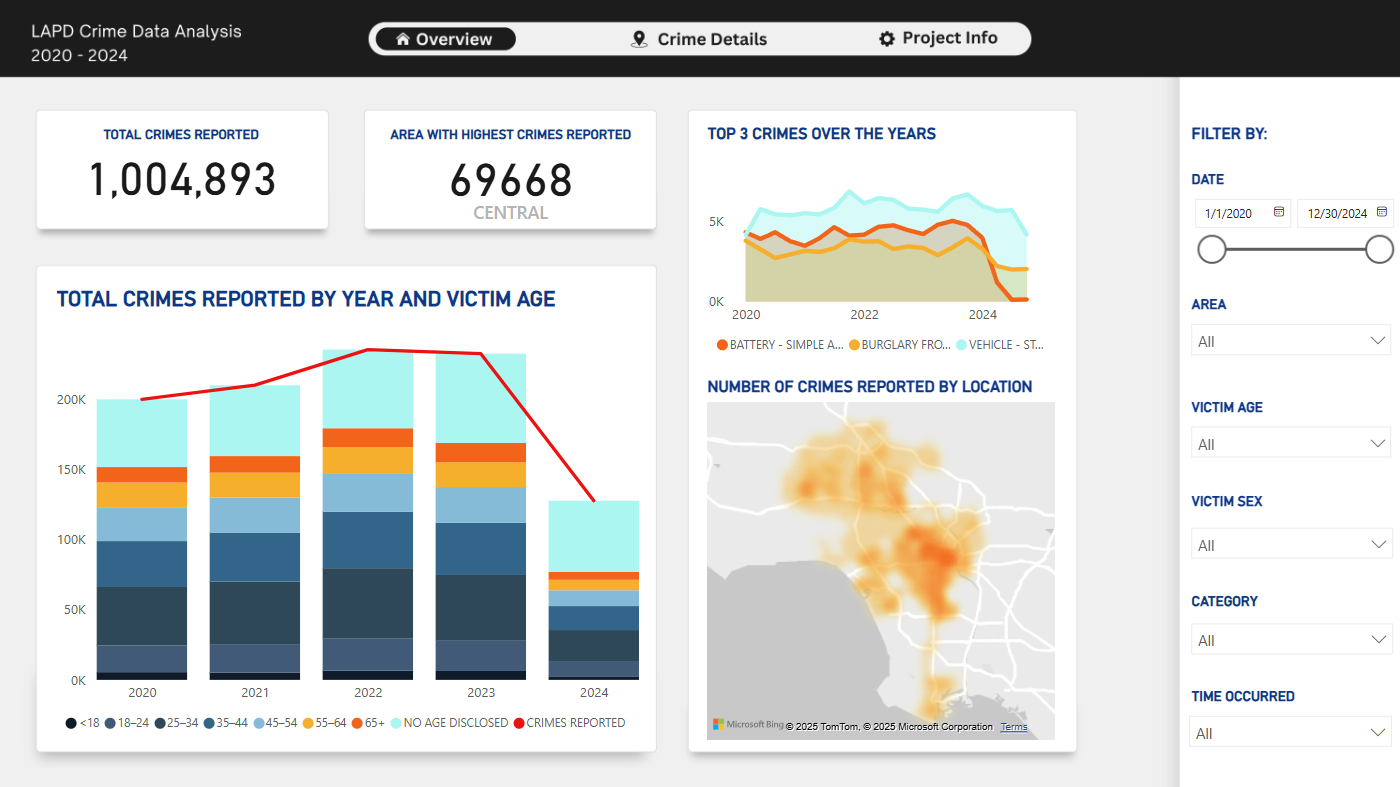

What the dashboard file says about the page in this screenshot:
{"tool":"powerbi","page":{"name":"dashboard","canvas":[1280,720],"ordinal":0},"visuals":[{"type":"map","fields":{"Y":["views vw_crimes_by_location_coordinates (3).crime_address_latitude"],"X":["views vw_crimes_by_location_coordinates (3).crime_address_longitude"],"Size":["Sum(views vw_crimes_by_location_coordinates (3).number_of_crimes)"]},"box":[47.1,272.9,535.7,397.1],"z":0},{"type":"lineChart","fields":{"Y":["Sum(views vw_crimes_per_date.number_of_crimes)"],"Category":["views vw_crimes_per_date.date_all"]},"box":[644.3,152.9,315.7,230],"z":1000},{"type":"card","fields":{"Values":["views vw_crimes_per_date.measure_total_no_crimes"]},"box":[61.4,108.6,231.4,94.3],"z":2000},{"type":"columnChart","fields":{"Category":["views vw_weapons_used_per_crime.crime"],"Y":["Sum(views vw_weapons_used_per_crime.number_of_crimes)"]},"box":[644.3,428.6,325.7,241.4],"z":4000},{"type":"actionButton","box":[495.7,27,93,22.2],"z":5000},{"type":"actionButton","box":[660,27.3,110,21.3],"z":6000},{"type":"actionButton","box":[836.4,26.4,88.2,21.8],"z":7000},{"type":"cardVisual","fields":{"Data":["Sum(views vw_crimes_by_area.number_of_crimes)"],"Rows":["views vw_crimes_by_area.area"]},"box":[363.8,80,178.8,145],"z":7001}]}

Visuals, with their boxes in screenshot pixels (x1, y1, x2, y2), scaled from the page's 1280x720 canvas onto the 1400x787 screenshot:
map - views vw_crimes_by_location_coordinates (3).crime_address_latitude x views vw_crimes_by_location_coordinates (3).crime_address_longitude: Rect(52, 298, 637, 732)
lineChart - Sum(views vw_crimes_per_date.number_of_crimes) x views vw_crimes_per_date.date_all: Rect(705, 167, 1050, 419)
card - views vw_crimes_per_date.measure_total_no_crimes: Rect(67, 119, 320, 222)
columnChart - views vw_weapons_used_per_crime.crime x Sum(views vw_weapons_used_per_crime.number_of_crimes): Rect(705, 468, 1061, 732)
actionButton: Rect(542, 30, 644, 54)
actionButton: Rect(722, 30, 842, 53)
actionButton: Rect(915, 29, 1011, 53)
cardVisual - Sum(views vw_crimes_by_area.number_of_crimes) x views vw_crimes_by_area.area: Rect(398, 87, 593, 246)
